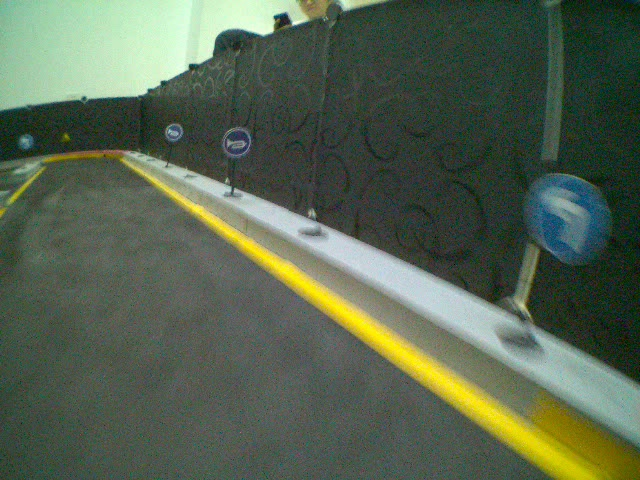horn: (221, 126, 252, 158), (164, 123, 183, 142)
